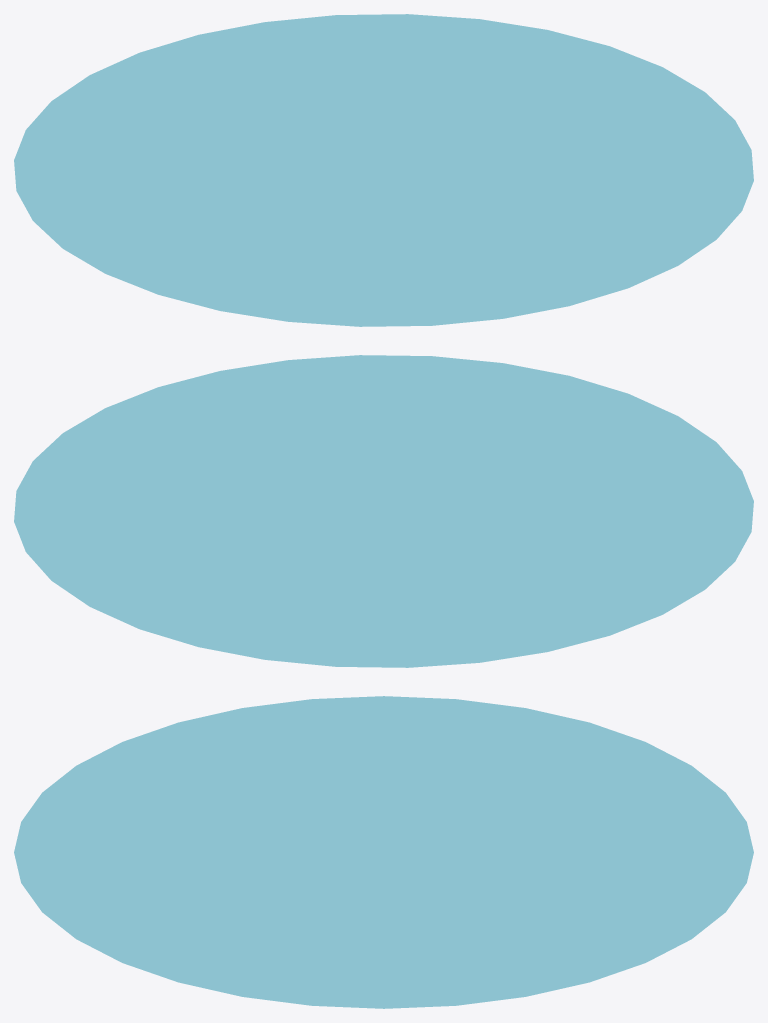
File: ball-outline.obj
3 views of the same model, one above another, from view 1: azimuth 30°, elevation 25°; view 2: azimuth 150°, elevation 25°; view 3: azimuth 270°, elevation 25° (orthographic).
Visible parts, largest first — view 1: Sphere; view 2: Sphere; view 3: Sphere.
Boxes of the visible parts, x1,y1,x2,y2 form: Sphere: (14,14,753,326); Sphere: (14,355,753,667); Sphere: (14,696,753,1008).
Size of the model in its own units: 0.5 by 0 by 0.5.
Materials: 1 (1 with a texture image).
